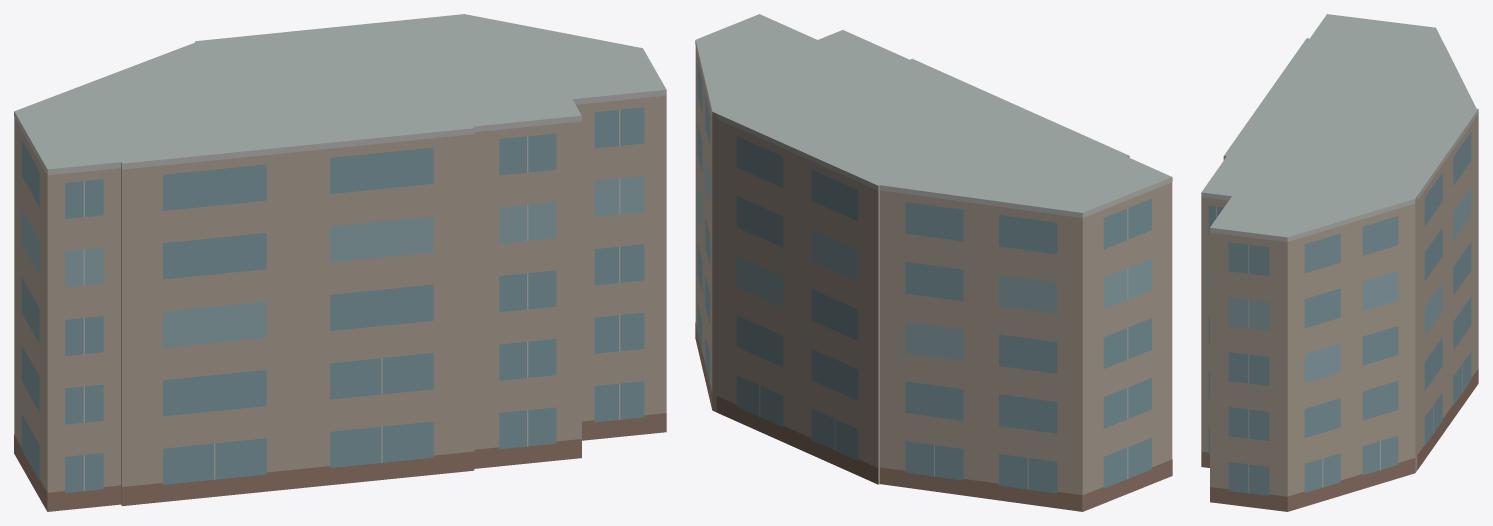
The model's file is survey-upis-32985917.glb.
3 views of the same model, side by side, from view 1: azimuth 30°, elevation 25°; view 2: azimuth 150°, elevation 25°; view 3: azimuth 270°, elevation 25° (orthographic). The views are drawn at different scales.
Parts seen in each view (by area): view 1: survey-upis-32985917.tmp; view 2: survey-upis-32985917.tmp; view 3: survey-upis-32985917.tmp.
Part boxes in pixels (box(x1,y1,x2,y2)): survey-upis-32985917.tmp: box(14, 14, 666, 511); survey-upis-32985917.tmp: box(695, 14, 1172, 511); survey-upis-32985917.tmp: box(1201, 14, 1478, 511).
Bounding box in the file's own units: 24.84 × 14.23 × 13.04.
